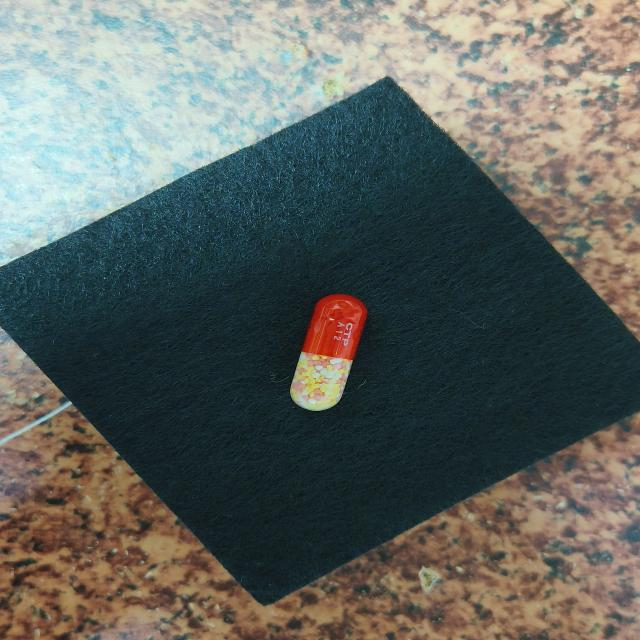Intact Capsule: (290, 294, 368, 411)
